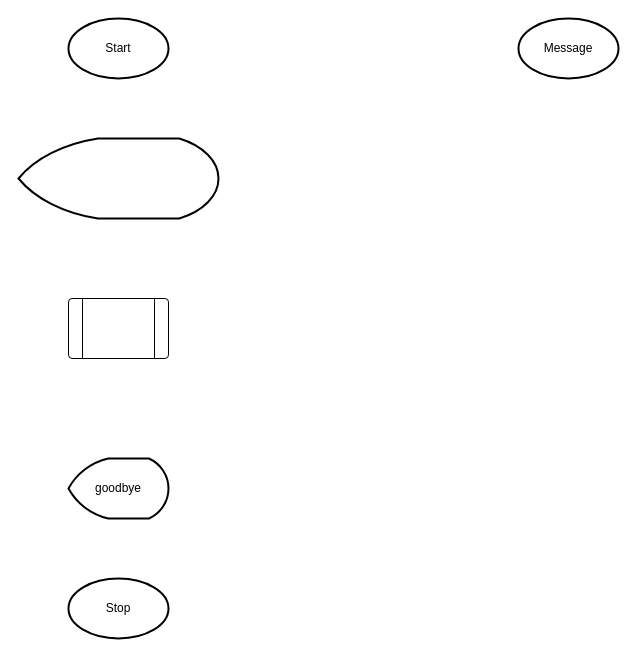
This 636x656 diagram has some shape labels left out. Each missing label, with the centre of its shape:
"'I havw a message for you'" belongs at [118,178].
"Message()" belongs at [118,328].
